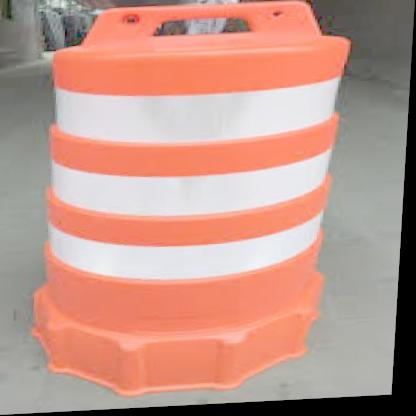obstacle: (28, 12, 343, 352)
